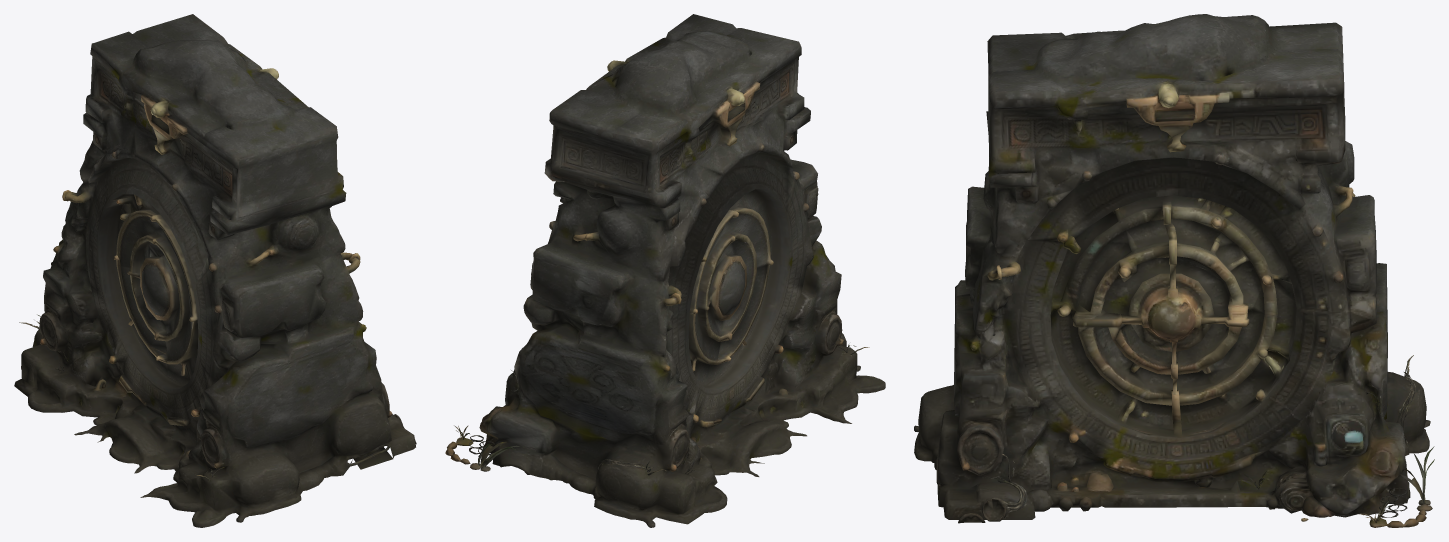
The model's file is ch1_first_sealed_portal.glb.
The picture shows the model from 3 angles, left to right: view 1: azimuth 30°, elevation 25°; view 2: azimuth 150°, elevation 25°; view 3: azimuth 270°, elevation 25°; orthographic projection. The views are drawn at different scales.
Visible parts, largest first — view 1: tripo_node_30cc7031-aaaa-48c9-b1ef-075203d77a03; view 2: tripo_node_30cc7031-aaaa-48c9-b1ef-075203d77a03; view 3: tripo_node_30cc7031-aaaa-48c9-b1ef-075203d77a03.
Boxes of the visible parts, x1=… form: tripo_node_30cc7031-aaaa-48c9-b1ef-075203d77a03: x1=14, y1=14, x2=416, y2=527; tripo_node_30cc7031-aaaa-48c9-b1ef-075203d77a03: x1=445, y1=14, x2=885, y2=527; tripo_node_30cc7031-aaaa-48c9-b1ef-075203d77a03: x1=914, y1=14, x2=1434, y2=527.
Bounding box in the file's own units: 0.6895 × 0.9707 × 0.998.
Materials: 1 (1 with a texture image).
